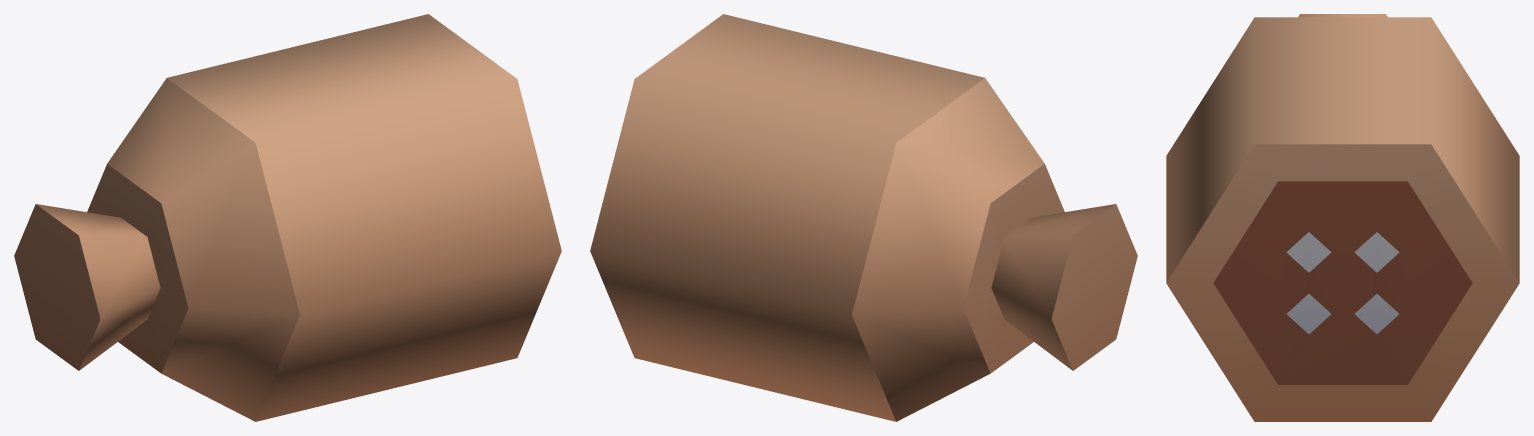
Rendered from sausage-half.glb.
The picture shows the model from 3 angles, left to right: view 1: azimuth 30°, elevation 25°; view 2: azimuth 150°, elevation 25°; view 3: azimuth 270°, elevation 25°; orthographic projection.
Parts seen in each view (by area): view 1: sausage-half; view 2: sausage-half; view 3: sausage-half.
Boxes of the visible parts, bbox=[...] form: sausage-half: bbox=[14, 14, 561, 421]; sausage-half: bbox=[590, 14, 1137, 421]; sausage-half: bbox=[1166, 14, 1519, 421].
Size of the model in its own units: 0.1853 by 0.1189 by 0.1373.
